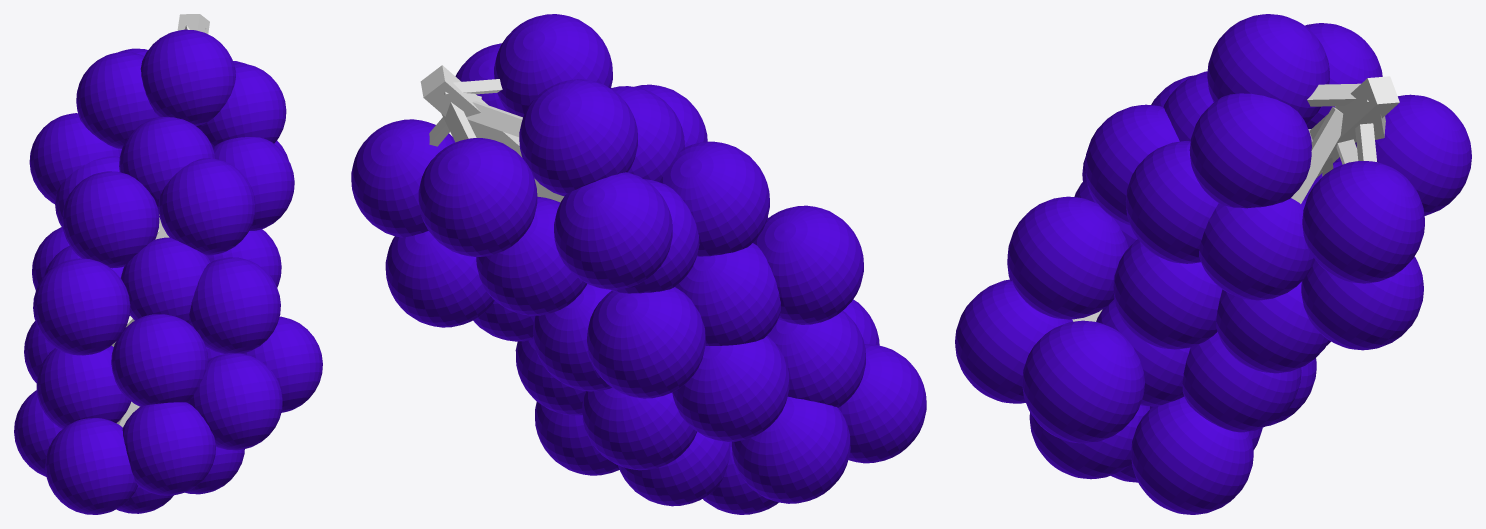
The model's file is uvas.glb.
3 renders of one model, left to right at view 1: azimuth 30°, elevation 25°; view 2: azimuth 150°, elevation 25°; view 3: azimuth 270°, elevation 25°, orthographic. The views are drawn at different scales.
Parts seen in each view (by area): view 1: Esfera.032, Esfera.031, Esfera.033, Esfera.017, Esfera.020, Esfera.002, Esfera.016, Esfera.015, Esfera.001, Esfera.013, Esfera.006, Esfera.018 (+14 smaller); view 2: Esfera.021, Esfera.007, Esfera.026, Esfera.006, Esfera.032, Esfera.030, Esfera.028, Esfera.033, Esfera.020, Esfera.003, Esfera.011, Esfera.004 (+18 smaller); view 3: Esfera.003, Esfera.036, Esfera.034, Esfera.002, Esfera.037, Esfera.008, Esfera.020, Esfera.010, Esfera.001, Esfera.004, Esfera.035, Esfera.021 (+12 smaller).
Boxes of the visible parts, x1,y1,x2,y2 form: Esfera.032: (33, 258, 130, 355); Esfera.031: (158, 158, 255, 255); Esfera.033: (62, 171, 159, 268); Esfera.017: (111, 314, 208, 406); Esfera.020: (140, 29, 235, 125); Esfera.002: (188, 257, 280, 353); Esfera.016: (122, 402, 215, 495); Esfera.015: (45, 418, 137, 514); Esfera.001: (187, 353, 282, 450); Esfera.013: (36, 345, 130, 428); Esfera.006: (76, 52, 159, 148); Esfera.018: (121, 237, 210, 322); Esfera.021: (418, 138, 537, 256); Esfera.007: (554, 172, 672, 289); Esfera.026: (587, 287, 705, 398); Esfera.006: (519, 79, 637, 196); Esfera.032: (753, 205, 863, 324); Esfera.030: (731, 396, 850, 503); Esfera.028: (672, 336, 789, 441); Esfera.033: (659, 141, 769, 256); Esfera.020: (494, 14, 612, 117); Esfera.003: (351, 119, 455, 237); Esfera.011: (675, 243, 780, 345); Esfera.004: (385, 231, 494, 327); Esfera.003: (1302, 161, 1424, 283); Esfera.036: (1022, 320, 1144, 443); Esfera.034: (1189, 93, 1311, 208); Esfera.002: (1007, 196, 1128, 319); Esfera.037: (1131, 396, 1253, 514); Esfera.008: (1199, 198, 1314, 300); Esfera.020: (1207, 14, 1329, 123); Esfera.010: (1113, 239, 1222, 349); Esfera.001: (955, 281, 1072, 403); Esfera.004: (1301, 256, 1423, 350); Esfera.035: (1125, 141, 1218, 263); Esfera.021: (1355, 94, 1471, 215).
Bounding box in the file's own units: 5.61 × 6.54 × 5.88.
